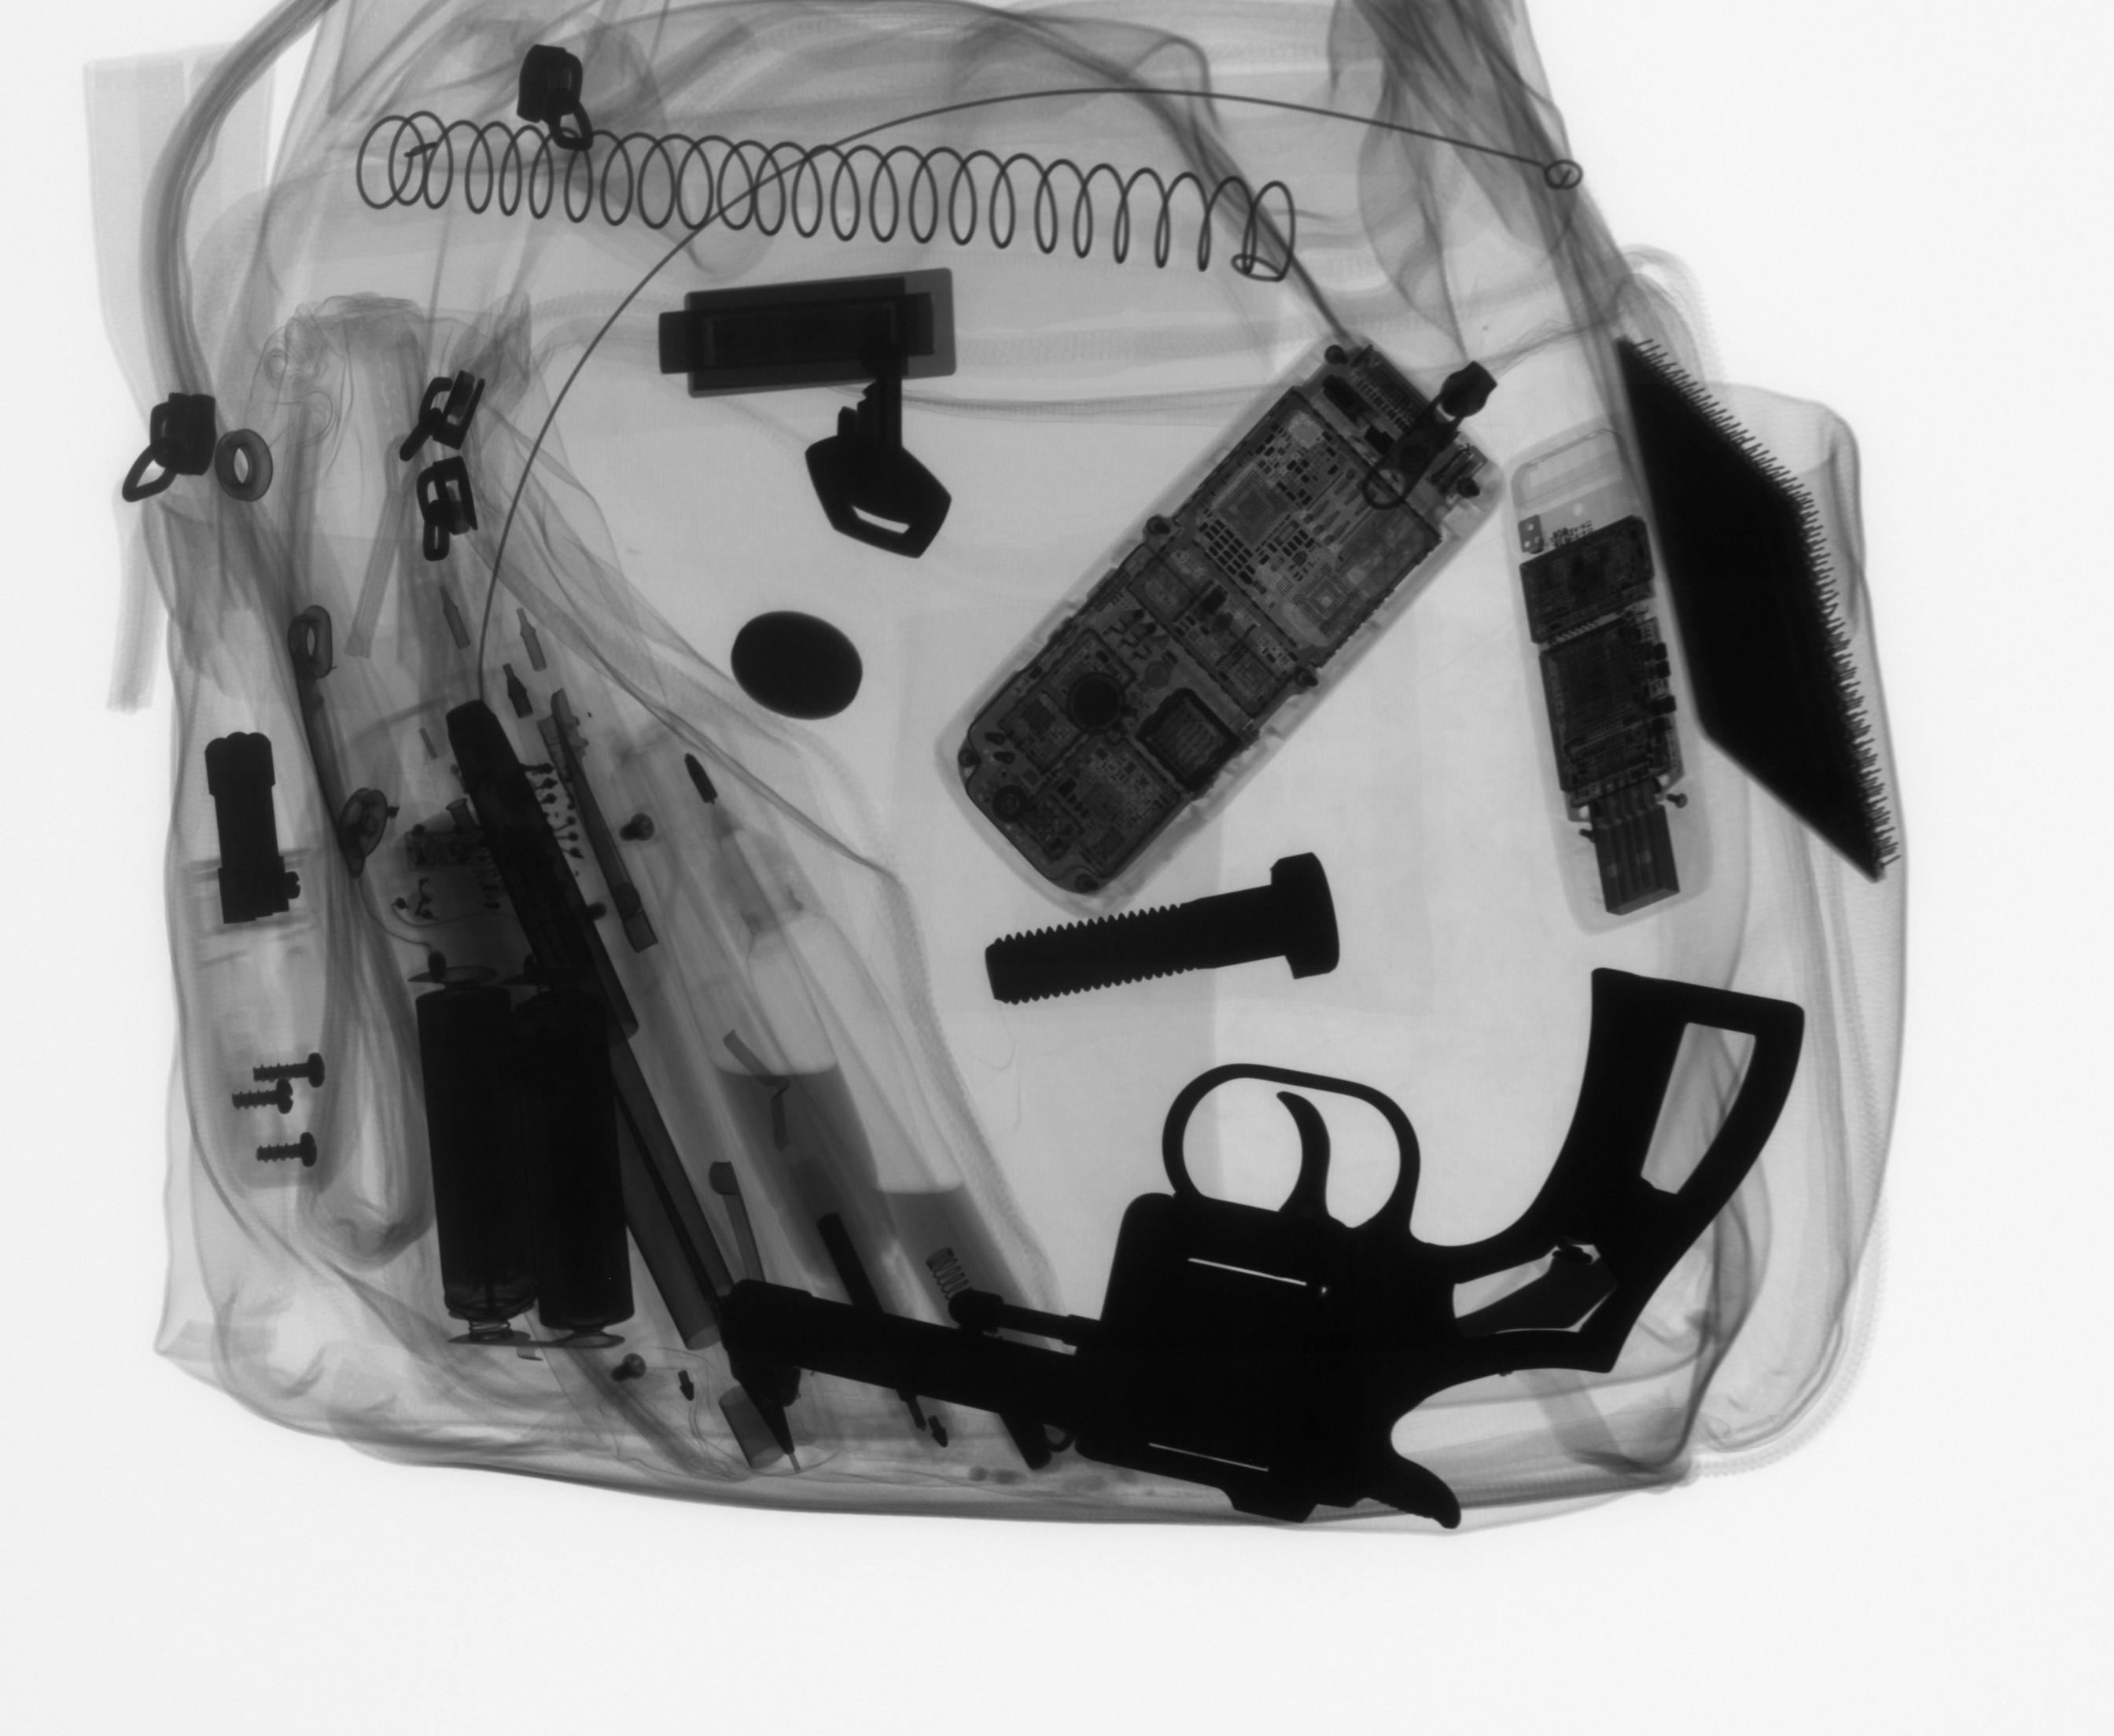Handgun: (706, 958, 1819, 1545)
